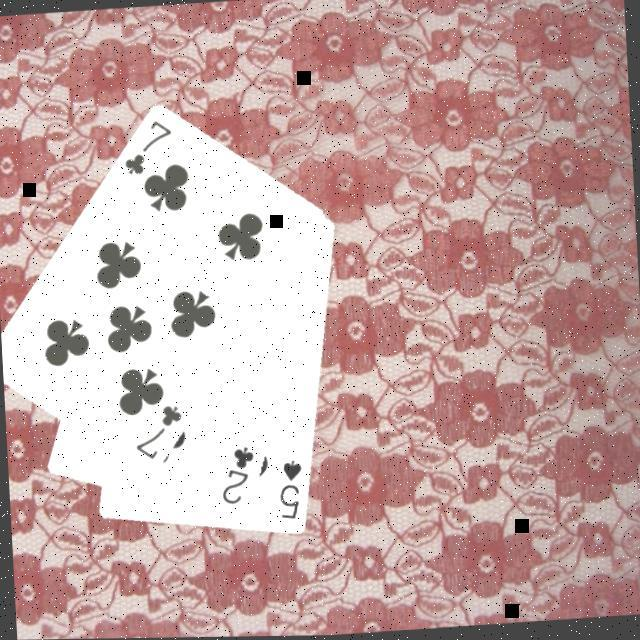2C: (215, 446, 258, 512)
5S: (273, 459, 306, 526)
7C: (117, 119, 176, 183), (128, 403, 186, 467)
